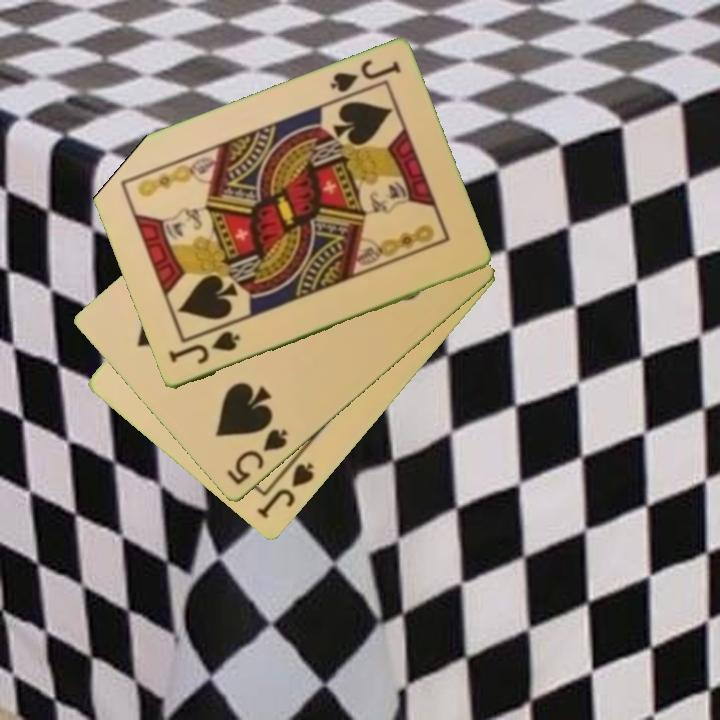5s: (223, 425, 291, 489)
Js: (253, 459, 318, 522), (165, 328, 243, 368), (326, 57, 404, 96)
